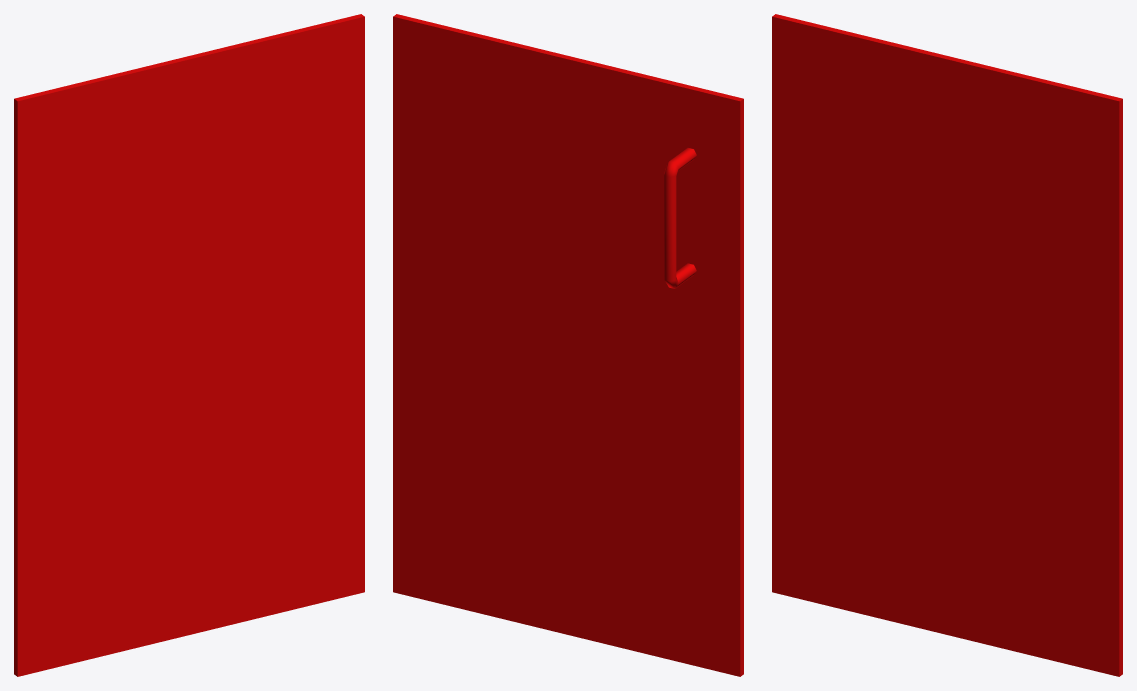
The model's file is AntagPCDesk_Slidedoor.fbx.
The picture shows the model from 3 angles, left to right: view 1: azimuth 30°, elevation 25°; view 2: azimuth 150°, elevation 25°; view 3: azimuth 330°, elevation 25°; orthographic projection.
Visible parts, largest first — view 1: AntagPCDesk_Slidedoor; view 2: AntagPCDesk_Slidedoor; view 3: AntagPCDesk_Slidedoor.
Boxes of the visible parts, box(x1,y1,x2,y2) form: AntagPCDesk_Slidedoor: box(14, 14, 364, 676); AntagPCDesk_Slidedoor: box(393, 14, 743, 676); AntagPCDesk_Slidedoor: box(772, 14, 1122, 676).
Size of the model in its own units: 96.23 by 152 by 13.
